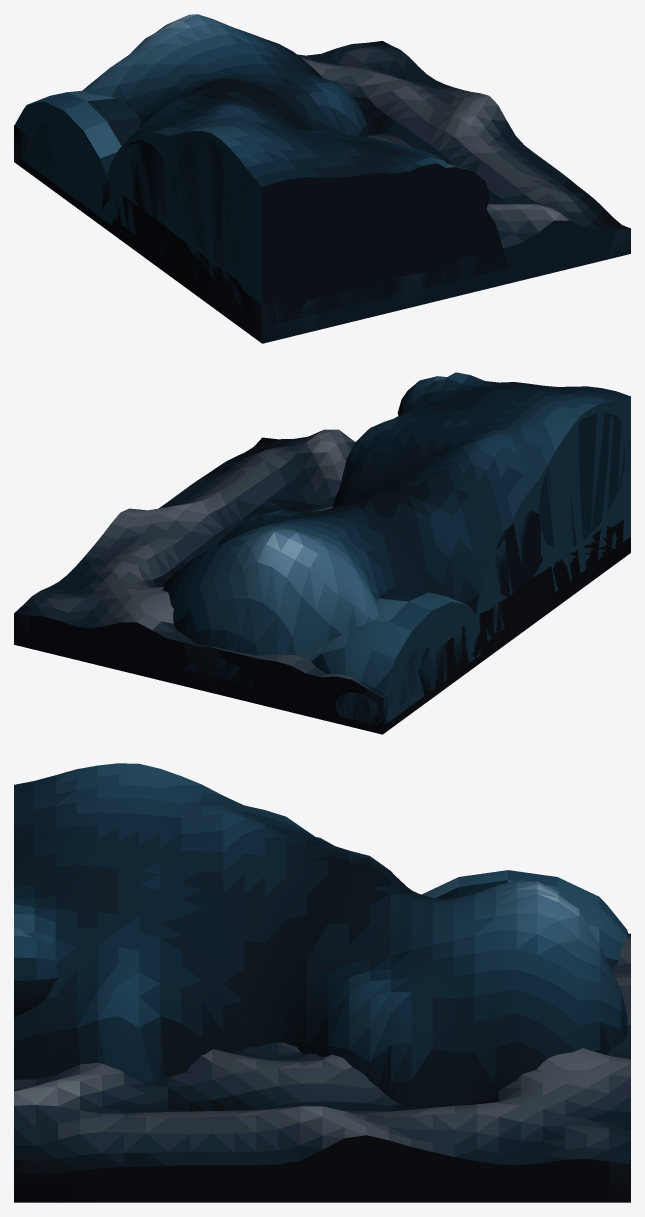
Rendered from gyges_brood_tr.glb.
3 views of the same model, one above another, from view 1: azimuth 30°, elevation 25°; view 2: azimuth 150°, elevation 25°; view 3: azimuth 270°, elevation 25° (orthographic). The views are drawn at different scales.
Parts seen in each view (by area): view 1: gyges_brood_tr_brood_body, gyges_brood_tr_brood_wall, gyges_brood_tr_brood_sac0, gyges_brood_tr_brood_sac3, gyges_brood_tr_brood_sac4, gyges_brood_tr_brood_sac2; view 2: gyges_brood_tr_brood_body, gyges_brood_tr_brood_wall, gyges_brood_tr_brood_sac0, gyges_brood_tr_brood_sac3, gyges_brood_tr_brood_sac2, gyges_brood_tr_brood_sac4; view 3: gyges_brood_tr_brood_body, gyges_brood_tr_brood_wall, gyges_brood_tr_brood_sac0, gyges_brood_tr_brood_sac4.
Part boxes in pixels (box(x1,y1,x2,y2)): gyges_brood_tr_brood_body: box(30, 14, 508, 326); gyges_brood_tr_brood_wall: box(14, 41, 630, 343); gyges_brood_tr_brood_sac0: box(15, 90, 140, 225); gyges_brood_tr_brood_sac3: box(170, 131, 253, 269); gyges_brood_tr_brood_sac4: box(380, 163, 489, 252); gyges_brood_tr_brood_sac2: box(128, 139, 178, 224); gyges_brood_tr_brood_body: box(163, 372, 630, 706); gyges_brood_tr_brood_wall: box(14, 429, 630, 734); gyges_brood_tr_brood_sac0: box(310, 589, 480, 724); gyges_brood_tr_brood_sac3: box(539, 411, 625, 547); gyges_brood_tr_brood_sac2: box(495, 511, 546, 596); gyges_brood_tr_brood_sac4: box(397, 376, 446, 415); gyges_brood_tr_brood_body: box(14, 763, 627, 1109); gyges_brood_tr_brood_wall: box(14, 933, 630, 1202); gyges_brood_tr_brood_sac0: box(422, 870, 628, 969); gyges_brood_tr_brood_sac4: box(14, 928, 58, 1017).
Size of the model in its own units: 23.98 by 10.81 by 27.98.
